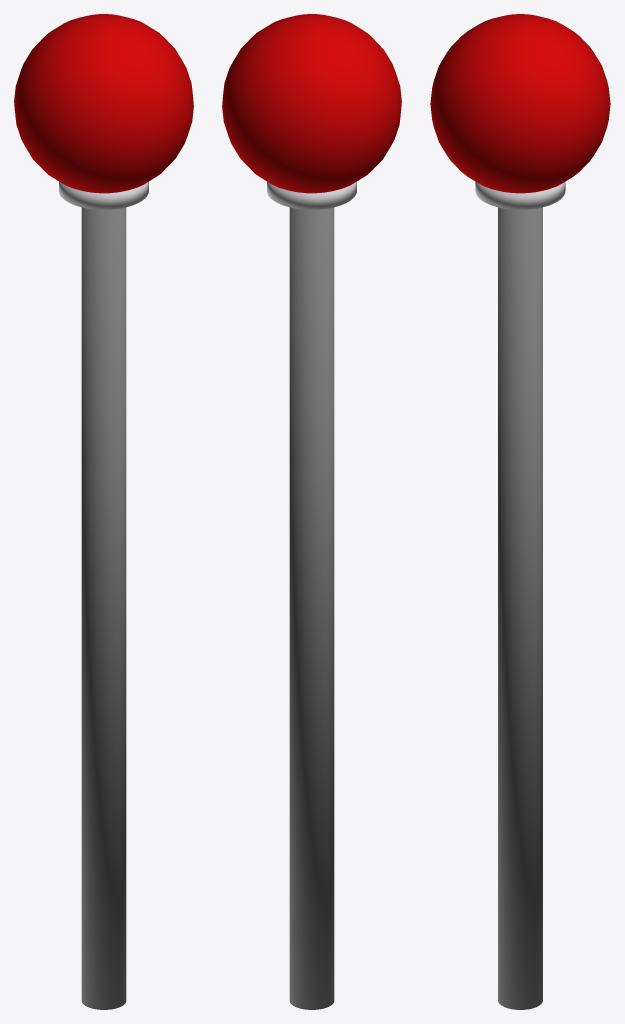
The model's file is Joystick.fbx.
3 views of the same model, side by side, from view 1: azimuth 30°, elevation 25°; view 2: azimuth 150°, elevation 25°; view 3: azimuth 270°, elevation 25° (orthographic).
Visible parts, largest first — view 1: Joystick_01, Joystick_00, Joystick_02; view 2: Joystick_01, Joystick_00, Joystick_02; view 3: Joystick_01, Joystick_00, Joystick_02.
Part boxes in pixels (bbox=[...]): Joystick_01: bbox=[81, 207, 126, 1009]; Joystick_00: bbox=[14, 14, 193, 193]; Joystick_02: bbox=[59, 181, 148, 209]; Joystick_01: bbox=[289, 207, 334, 1009]; Joystick_00: bbox=[222, 14, 401, 193]; Joystick_02: bbox=[267, 181, 356, 209]; Joystick_01: bbox=[498, 207, 542, 1009]; Joystick_00: bbox=[430, 14, 610, 193]; Joystick_02: bbox=[475, 181, 565, 209].
Bounding box in the file's own units: 3 × 17.97 × 3.
